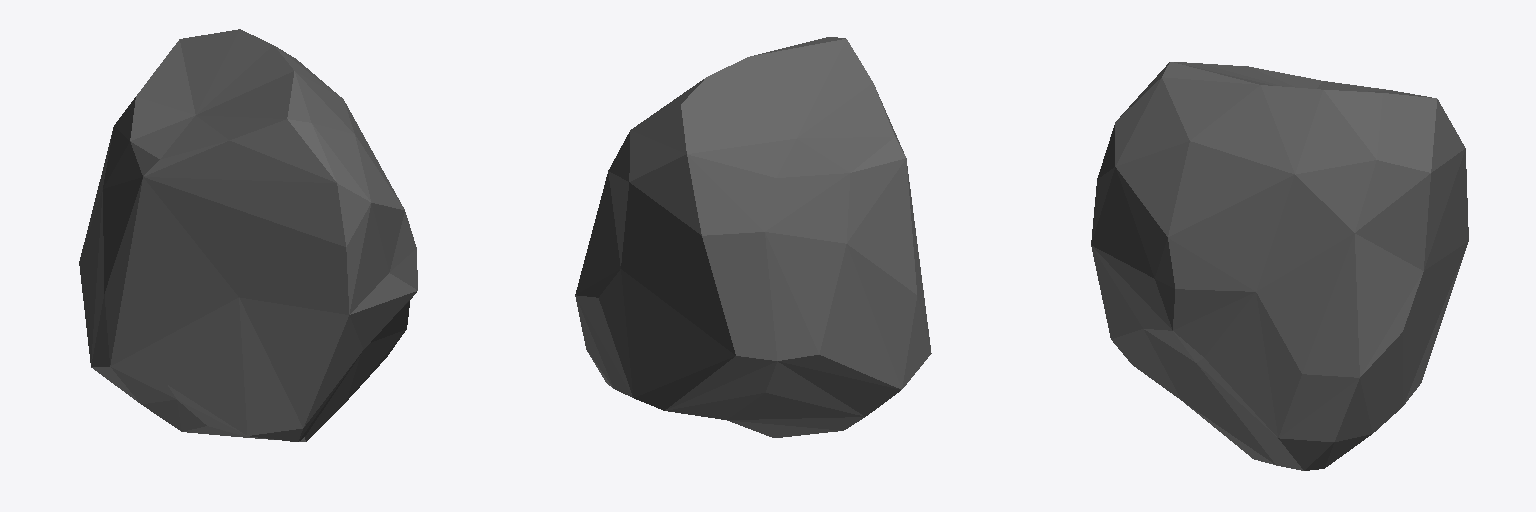
3 views of the same model, side by side, from view 1: azimuth 30°, elevation 25°; view 2: azimuth 150°, elevation 25°; view 3: azimuth 270°, elevation 25° (orthographic).
Visible parts, largest first — view 1: Cube_Cube.001; view 2: Cube_Cube.001; view 3: Cube_Cube.001.
Part boxes in pixels (x1,y1,x2,y2): Cube_Cube.001: (79, 29, 417, 441); Cube_Cube.001: (575, 37, 931, 437); Cube_Cube.001: (1091, 62, 1468, 470).
Size of the model in its own units: 1.49 by 1.7 by 1.57.
1 materials, 1 textured.